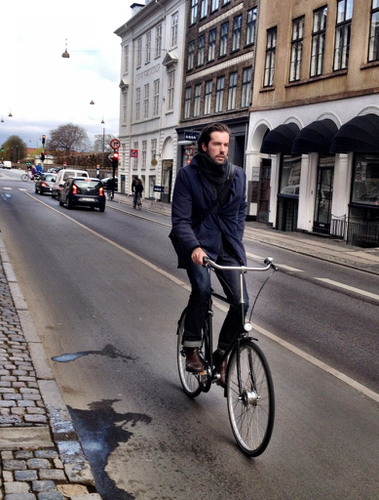bikerider: (163, 122, 290, 461), (124, 173, 154, 213), (16, 159, 43, 184)
